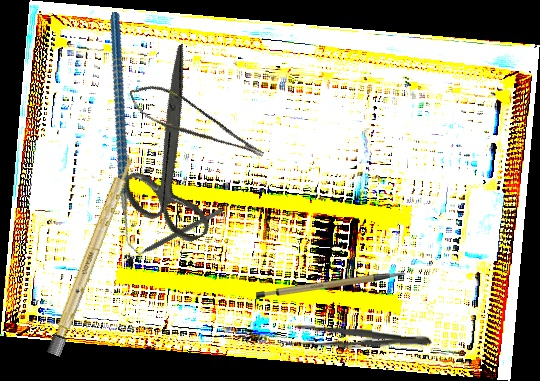Chopper: (49, 11, 204, 260)
Dressing Forceps: (282, 324, 433, 353)
Fixation Ring: (121, 202, 227, 271)
Iris Scissors: (73, 42, 271, 260)
Micro Scissor: (123, 71, 267, 181)
Scalpel Handle: (46, 153, 137, 357), (256, 272, 406, 300)
